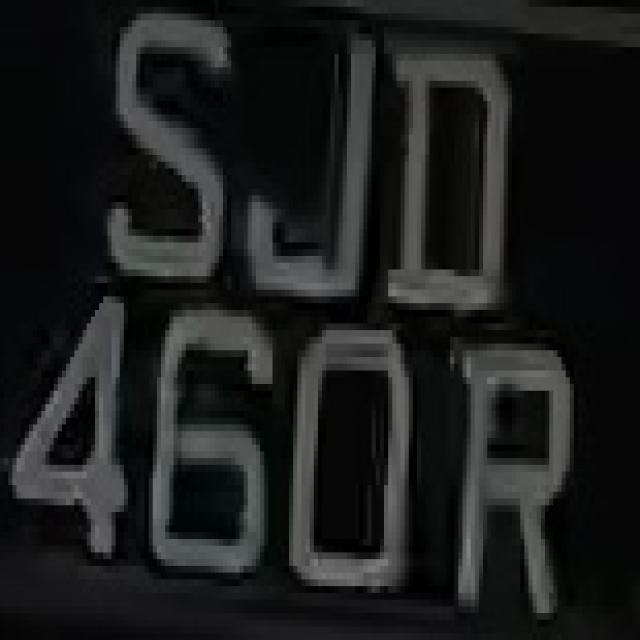0: (293, 310, 417, 620)
4: (29, 263, 132, 566)
6: (132, 290, 285, 593)
D: (388, 27, 516, 344)
J: (235, 27, 388, 330)
R: (450, 330, 578, 620)
S: (99, 14, 240, 303)
